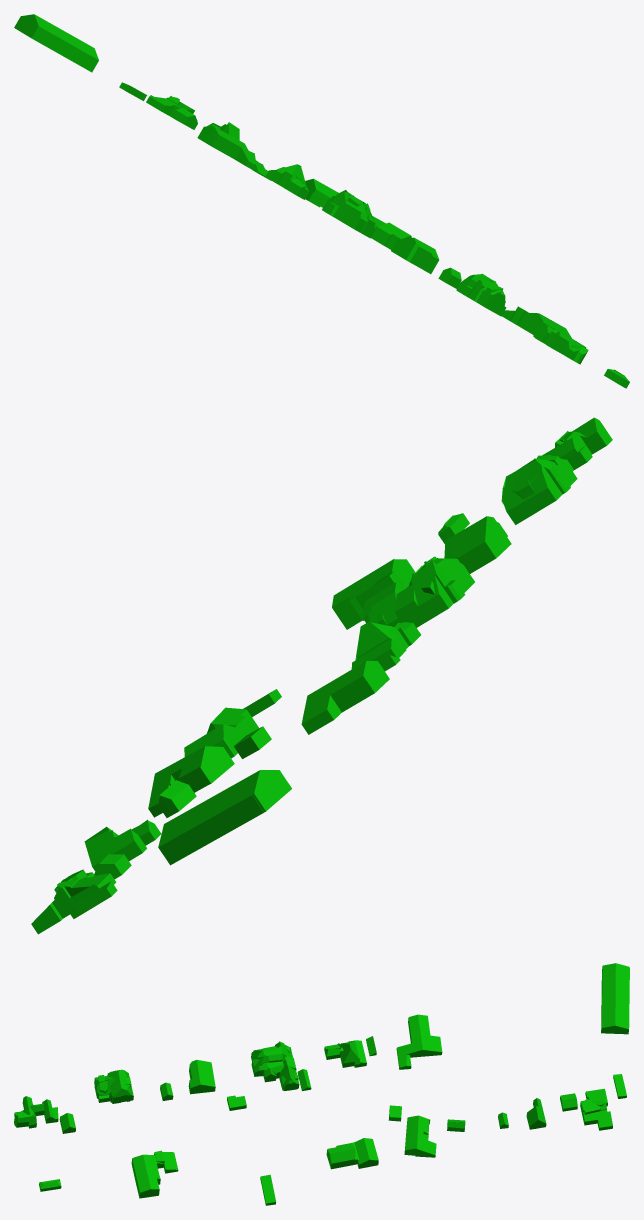
3 renders of one model, top to bottom at view 1: azimuth 30°, elevation 25°; view 2: azimuth 150°, elevation 25°; view 3: azimuth 270°, elevation 25°, orthographic. The views are drawn at different scales.
Visible parts, largest first — view 1: mesh; view 2: mesh; view 3: mesh.
Part boxes in pixels (x1,y1,x2,y2): mesh: (14,14,629,388); mesh: (31,417,612,934); mesh: (14,963,629,1205).
Bounding box in the file's own units: 103 × 72.21 × 267.
